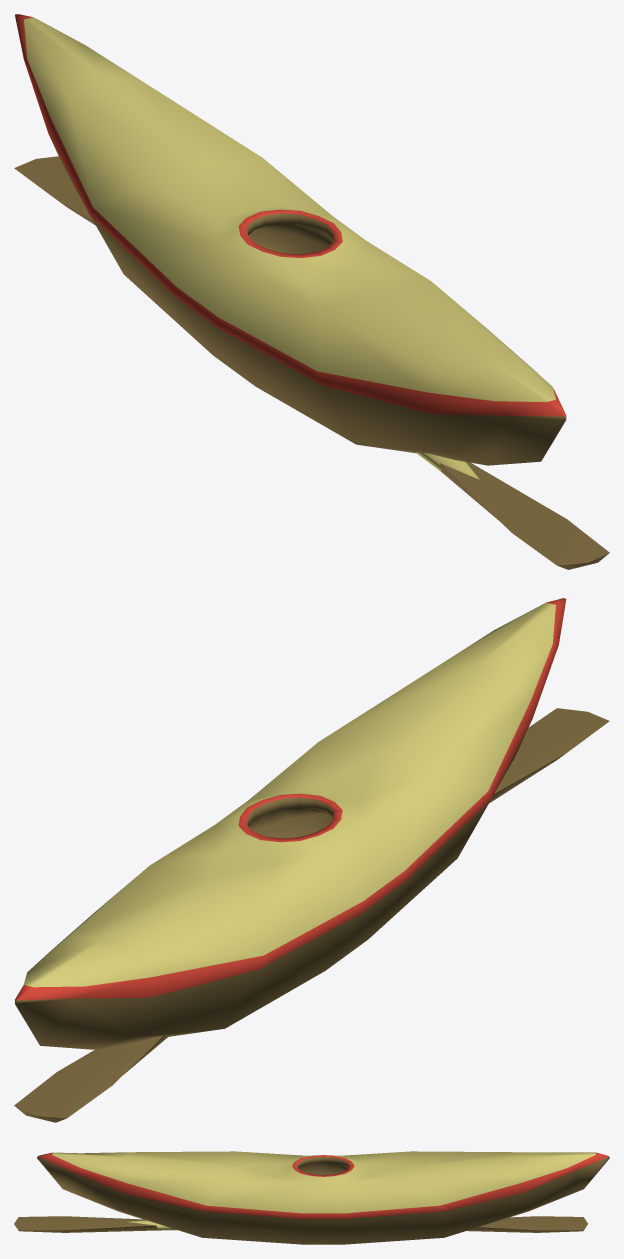
File: arctic_kayak.fbx
3 views of the same model, one above another, from view 1: azimuth 30°, elevation 25°; view 2: azimuth 150°, elevation 25°; view 3: azimuth 270°, elevation 25° (orthographic). The views are drawn at different scales.
Visible parts, largest first — view 1: Plane, arctic_kayak_paddle; view 2: Plane, arctic_kayak_paddle; view 3: Plane, arctic_kayak_paddle.
Boxes of the visible parts, x1,y1,x2,y2 form: Plane: (15, 14, 566, 465); arctic_kayak_paddle: (14, 156, 609, 569); Plane: (15, 598, 566, 1049); arctic_kayak_paddle: (14, 708, 609, 1122); Plane: (37, 1151, 609, 1244); arctic_kayak_paddle: (14, 1216, 587, 1232).
Bounding box in the file's own units: 0.5711 × 0.4777 × 3.02.
